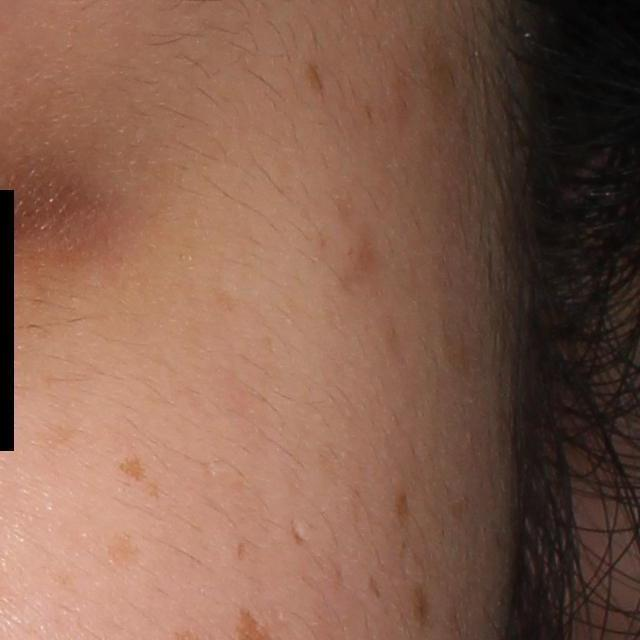atrophic_scar: (289, 518, 311, 549)
melasma: (103, 528, 144, 569), (116, 453, 150, 485), (410, 583, 434, 628), (304, 65, 327, 98), (395, 483, 411, 527), (366, 574, 384, 600), (236, 539, 248, 565)
